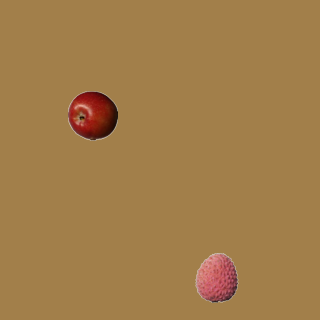Apple Braeburn: (67, 90, 117, 140)
Lychee: (191, 252, 241, 302)
